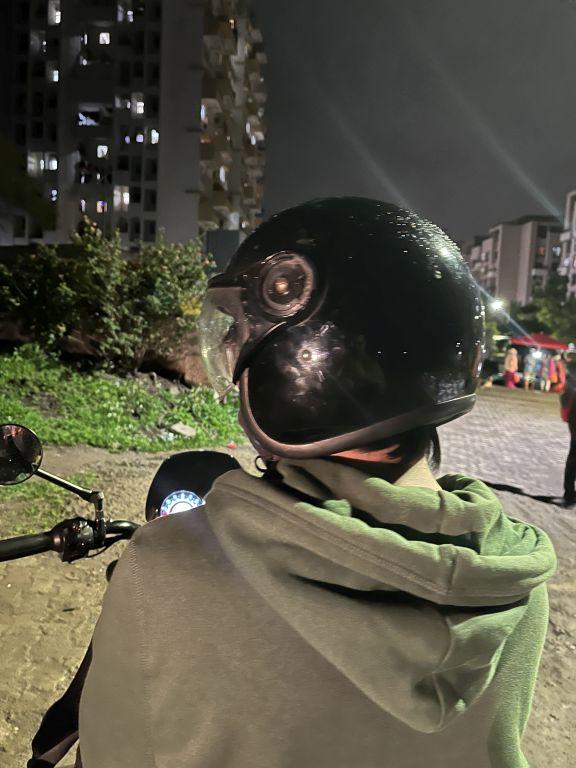helmet: (167, 179, 496, 493)
